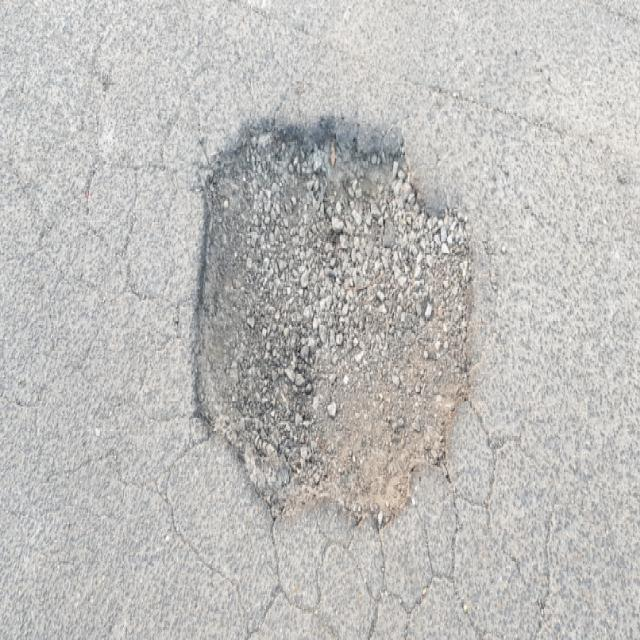pothole: (184, 94, 478, 540)
